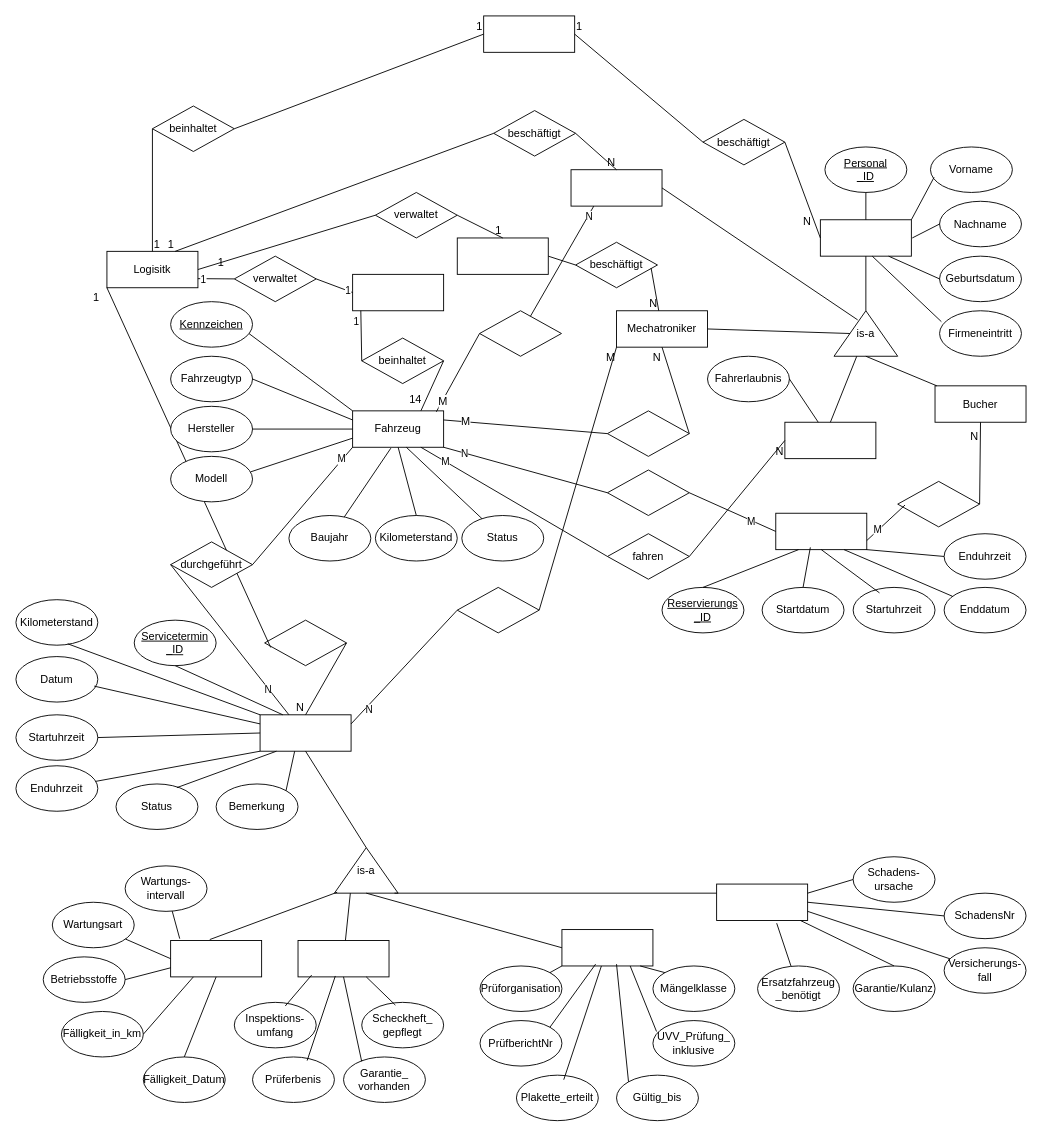
Some shapes in this 1042 by 1137 pixel diagram are drawn without their labels. Each missing label, with the centre of its shape:
Disponent: point (616, 187)
erstellt: point (938, 503)
Fahrer: point (830, 440)
Fuhrpark: point (398, 292)
Hauptunter- suchung: point (607, 947)
hinterlegt in: point (648, 492)
Inspektion: point (343, 958)
koordiniert: point (520, 333)
Mitarbeiter: point (865, 237)
Reparatur: point (762, 901)
repariert: point (648, 433)
Reservierung: point (821, 531)
SensorTec Automaten GmbH: point (529, 33)
Servicetermin: point (305, 732)
steuert: point (305, 642)
vollzogen von: point (497, 609)
Wartung: point (216, 958)
Werkstatt: point (502, 255)
